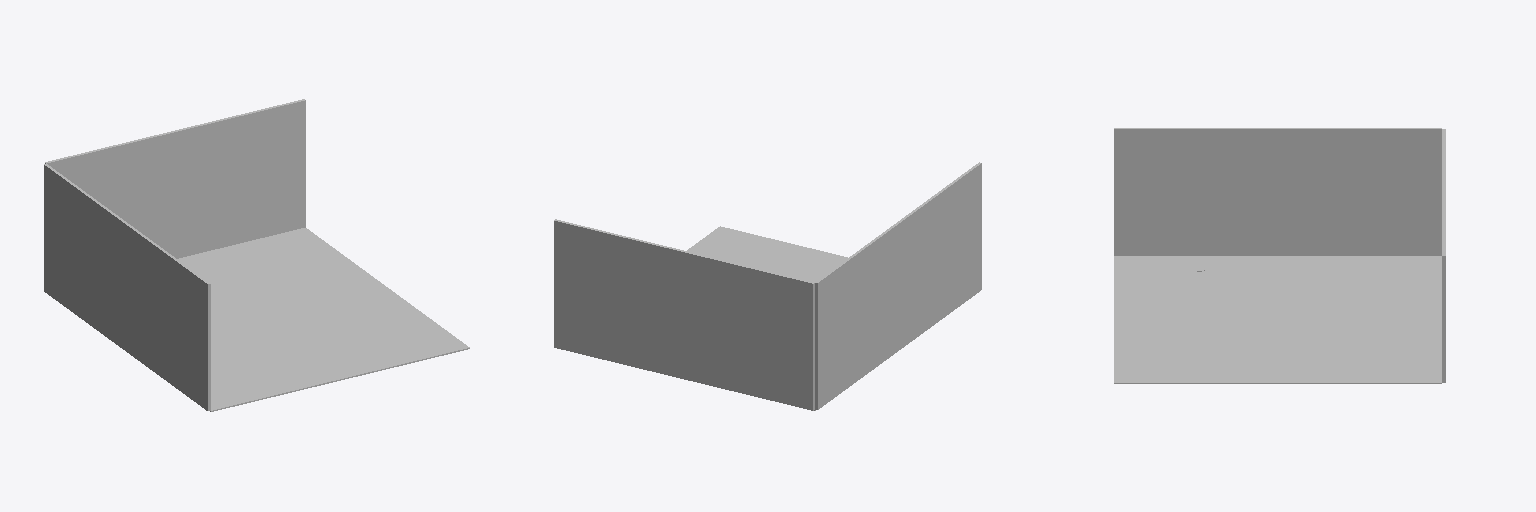
Rendered from walls.obj.
The picture shows the model from 3 angles: view 1: azimuth 30°, elevation 25°; view 2: azimuth 150°, elevation 25°; view 3: azimuth 270°, elevation 25°; orthographic projection.
Parts seen in each view (by area): view 1: stage2:polySurface2999 polySurface4868; view 2: stage2:polySurface2999 polySurface4868; view 3: stage2:polySurface2999 polySurface4868.
Part boxes in pixels (x1,y1,x2,y2): stage2:polySurface2999 polySurface4868: (44,99,469,411); stage2:polySurface2999 polySurface4868: (554,162,981,410); stage2:polySurface2999 polySurface4868: (1114,128,1445,383).
Bounding box in the file's own units: 42.38 × 19.86 × 46.51.